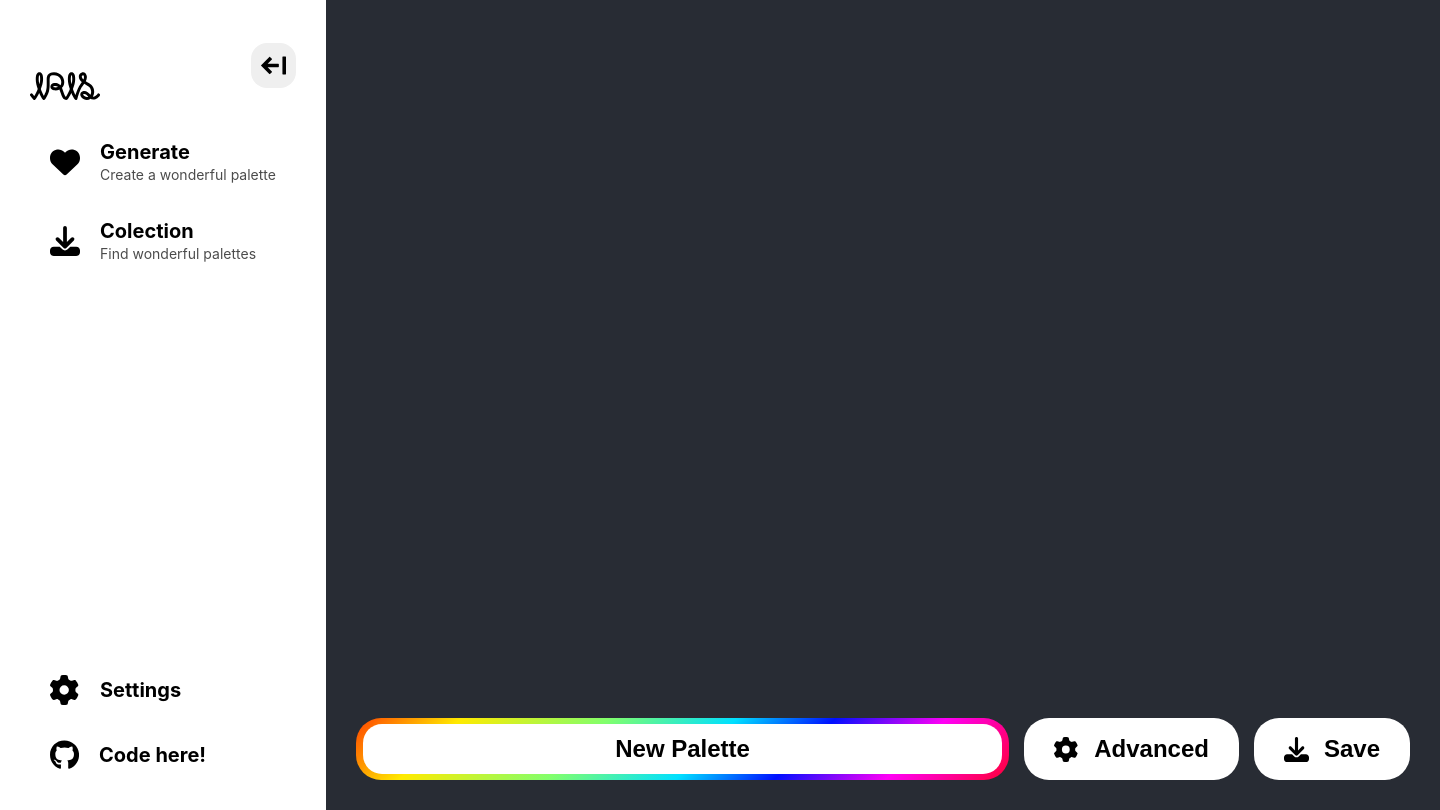
The palette is generated
Step 1. Click the button "New Palette" → (683, 749), box [356,718,1009,780]
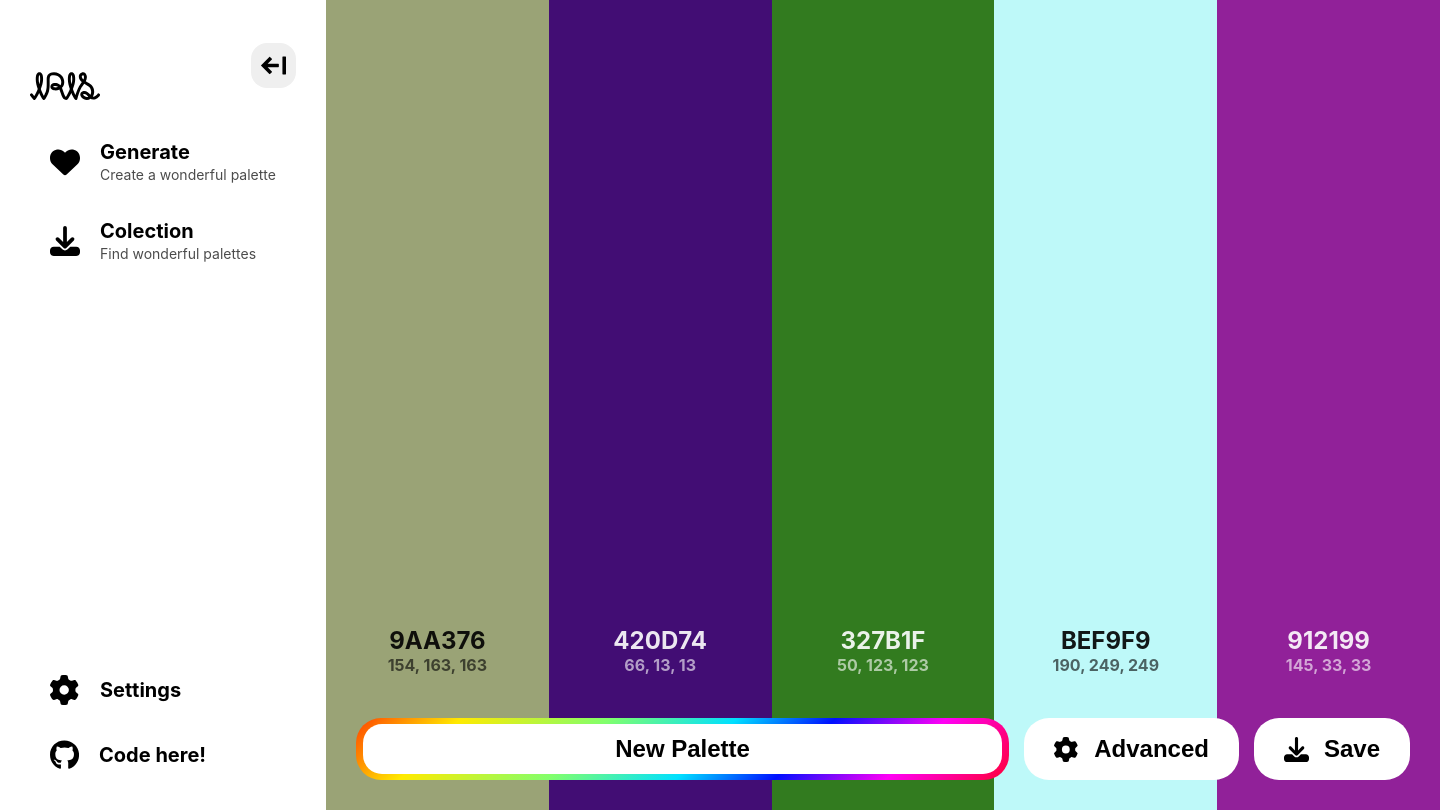
Check: the 3rd heading is shown, box [389,626,486,655]
